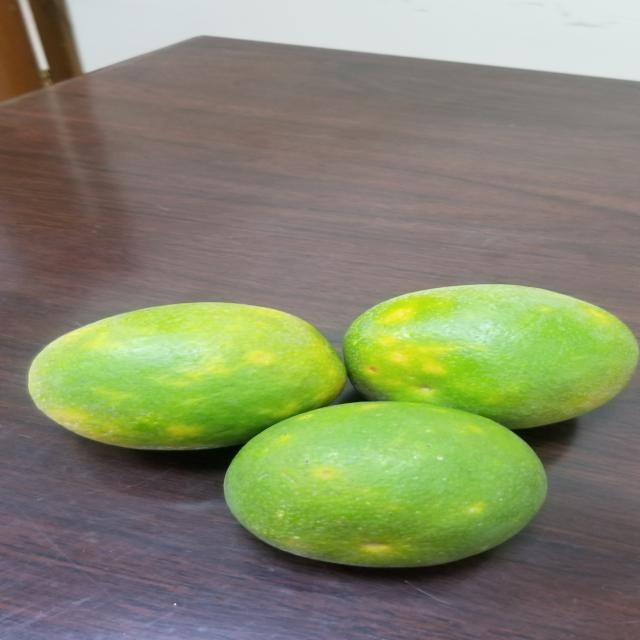agrume: (222, 398, 558, 579), (20, 300, 363, 446), (327, 276, 633, 432)
